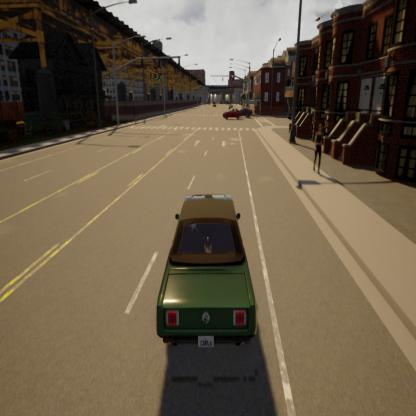Cars: (156, 193, 256, 347), (222, 104, 240, 122), (239, 106, 252, 119), (212, 99, 216, 108)
Pedestrian: (312, 121, 324, 175)
